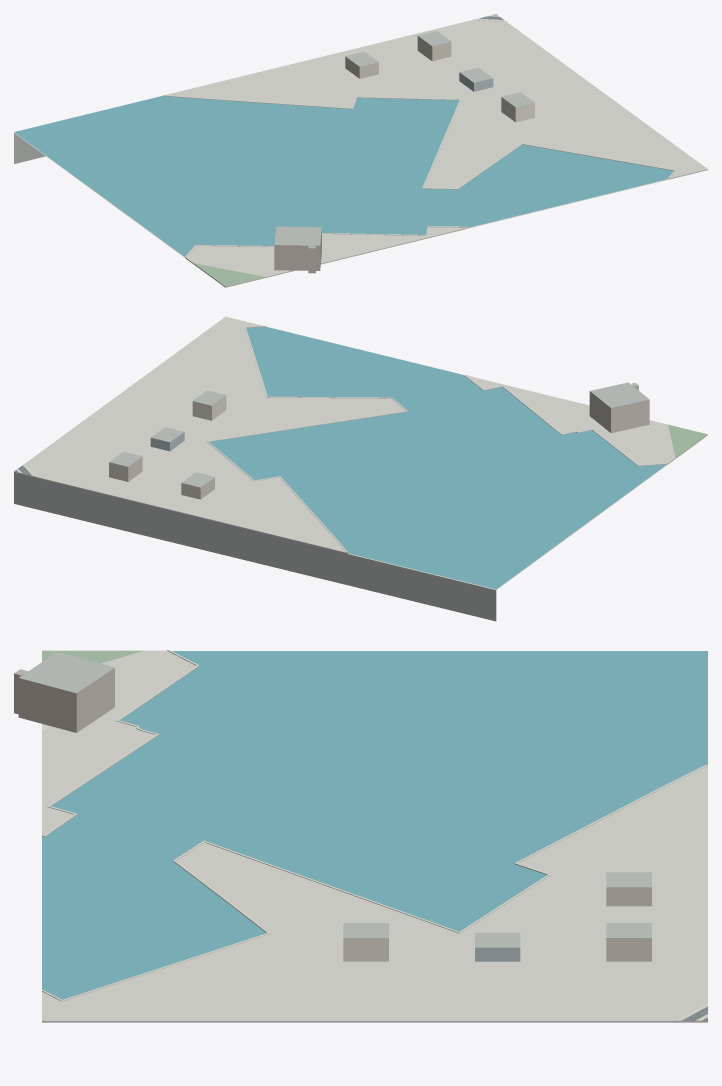
3 views of the same model, one above another, from view 1: azimuth 30°, elevation 25°; view 2: azimuth 150°, elevation 25°; view 3: azimuth 270°, elevation 25° (orthographic). The views are drawn at different scales.
Parts seen in each view (by area): view 1: city; view 2: city; view 3: city.
Boxes of the visible parts, box(x1,y1,x2,y2) form: city: box(14, 14, 707, 287); city: box(14, 316, 707, 621); city: box(14, 650, 707, 1022).
Size of the model in its own units: 500 by 57 by 396.
